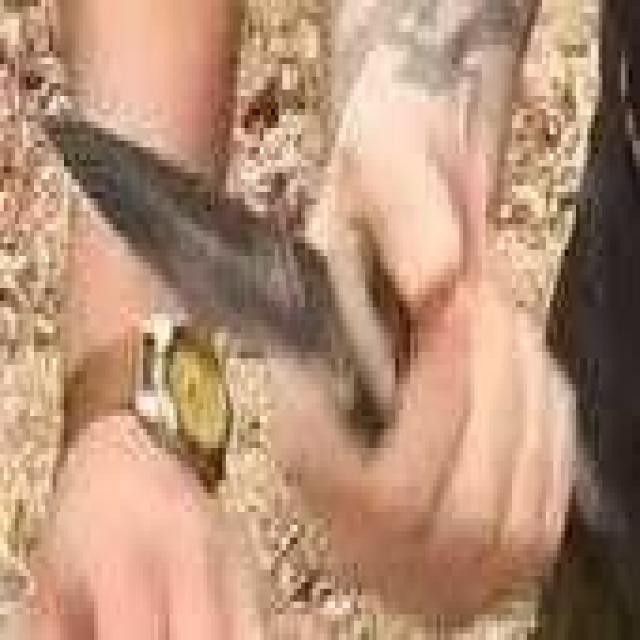knife: (52, 97, 640, 567)
